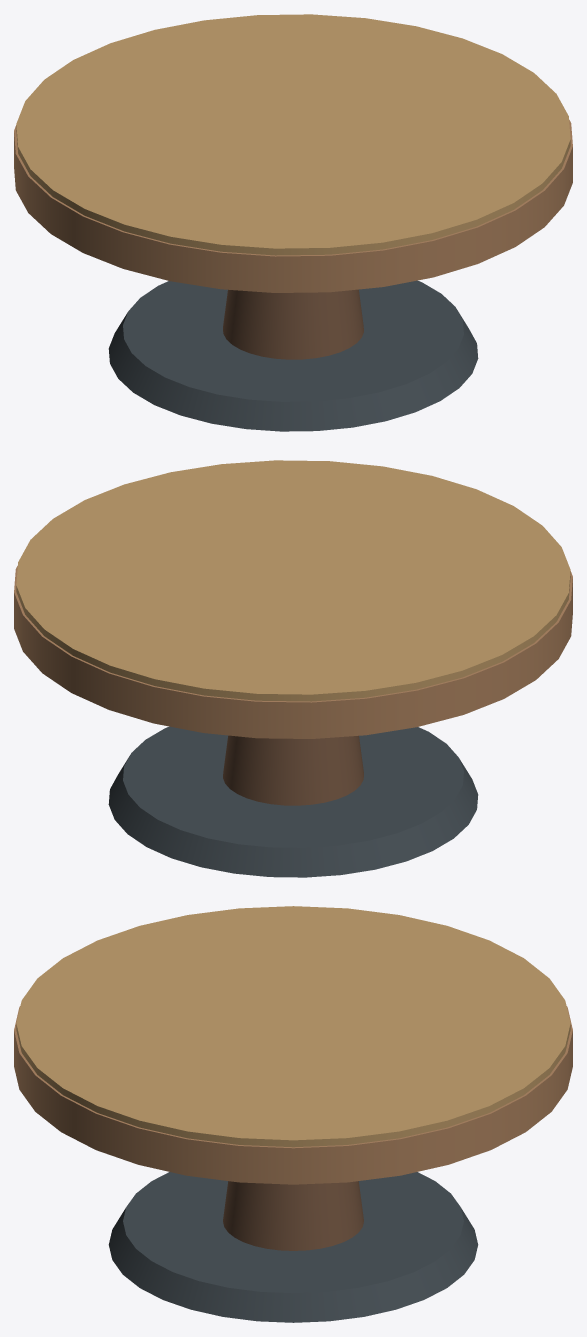
The model's file is coffee_table_round.glb.
3 renders of one model, top to bottom at view 1: azimuth 30°, elevation 25°; view 2: azimuth 150°, elevation 25°; view 3: azimuth 270°, elevation 25°, orthographic.
Visible parts, largest first — view 1: TopRim, DiscBase, CoffeeTop, Pedestal; view 2: TopRim, DiscBase, CoffeeTop, Pedestal; view 3: TopRim, DiscBase, CoffeeTop, Pedestal.
Part boxes in pixels (left/top/right/bottom): TopRim: left=16, top=14, right=570, bottom=255; DiscBase: left=108, top=280, right=478, bottom=431; CoffeeTop: left=14, top=119, right=572, bottom=292; Pedestal: left=223, top=289, right=363, bottom=359; TopRim: left=16, top=460, right=570, bottom=701; DiscBase: left=108, top=726, right=478, bottom=877; CoffeeTop: left=14, top=565, right=572, bottom=738; Pedestal: left=223, top=735, right=363, bottom=805; TopRim: left=16, top=906, right=570, bottom=1147; DiscBase: left=108, top=1172, right=478, bottom=1322; CoffeeTop: left=14, top=1006, right=572, bottom=1184; Pedestal: left=223, top=1181, right=363, bottom=1250.
Size of the model in its own units: 1.18 by 0.516 by 1.18.
